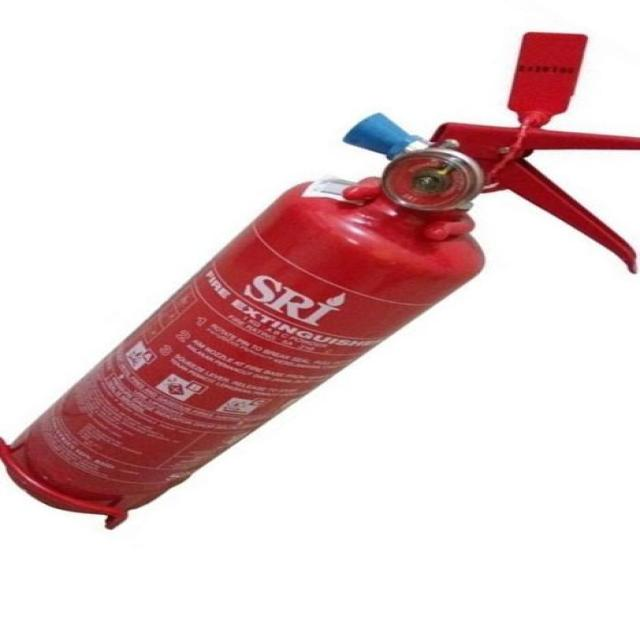fire_extinguisher: (0, 26, 639, 538)
